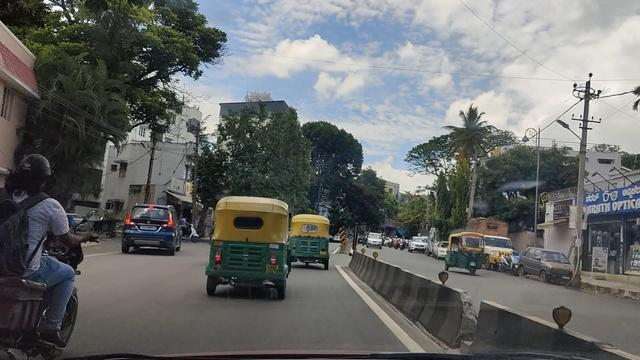LMV: (3, 153, 82, 351), (218, 195, 287, 321), (124, 201, 193, 271), (293, 212, 334, 279)
